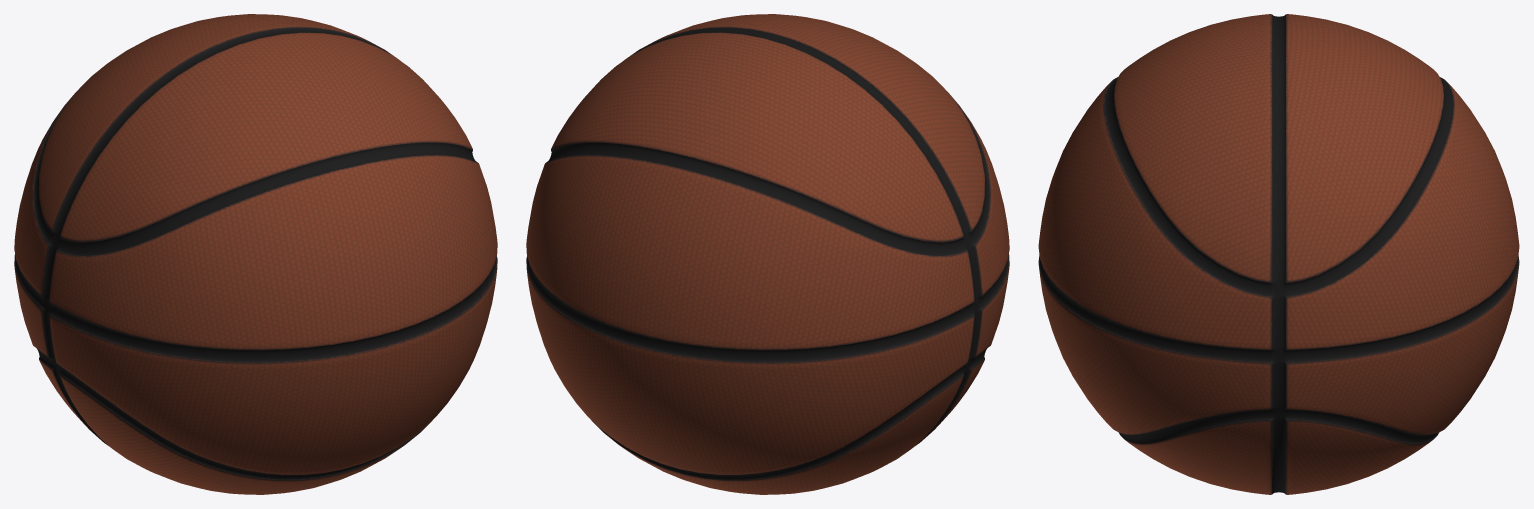
The model's file is basketball.fbx.
3 views of the same model, side by side, from view 1: azimuth 30°, elevation 25°; view 2: azimuth 150°, elevation 25°; view 3: azimuth 270°, elevation 25° (orthographic).
Parts seen in each view (by area): view 1: basketball; view 2: basketball; view 3: basketball.
Boxes of the visible parts, left/top/right/bottom form: basketball: left=14, top=14, right=497, bottom=494; basketball: left=526, top=14, right=1009, bottom=494; basketball: left=1038, top=14, right=1519, bottom=494.
Bounding box in the file's own units: 49.08 × 48.79 × 48.79.
